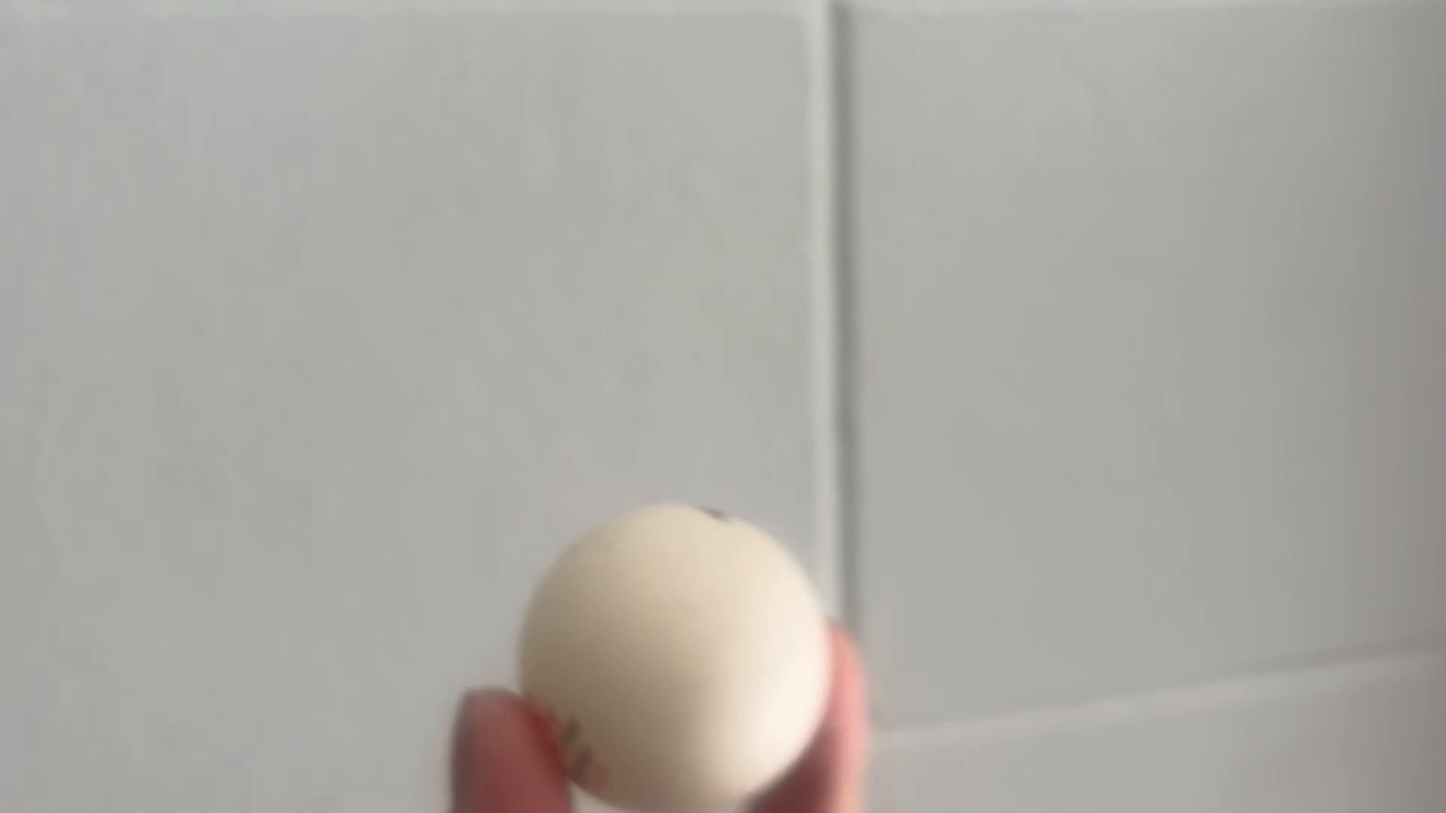Ball: (499, 494, 847, 799)
